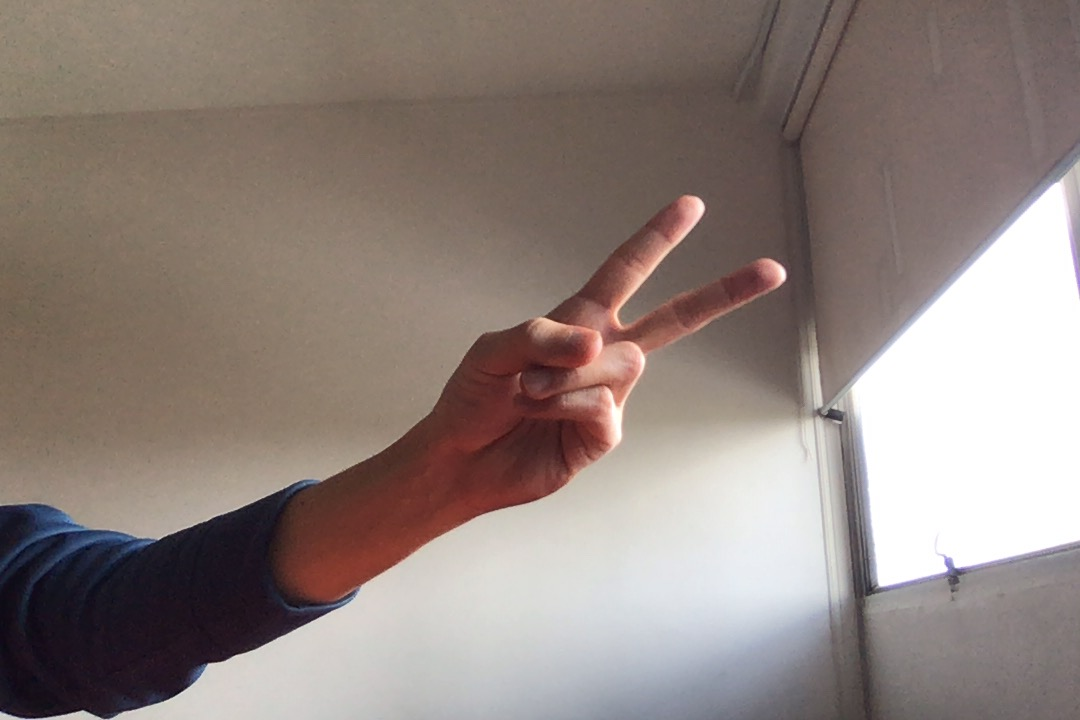peacesign: (426, 189, 798, 530)
